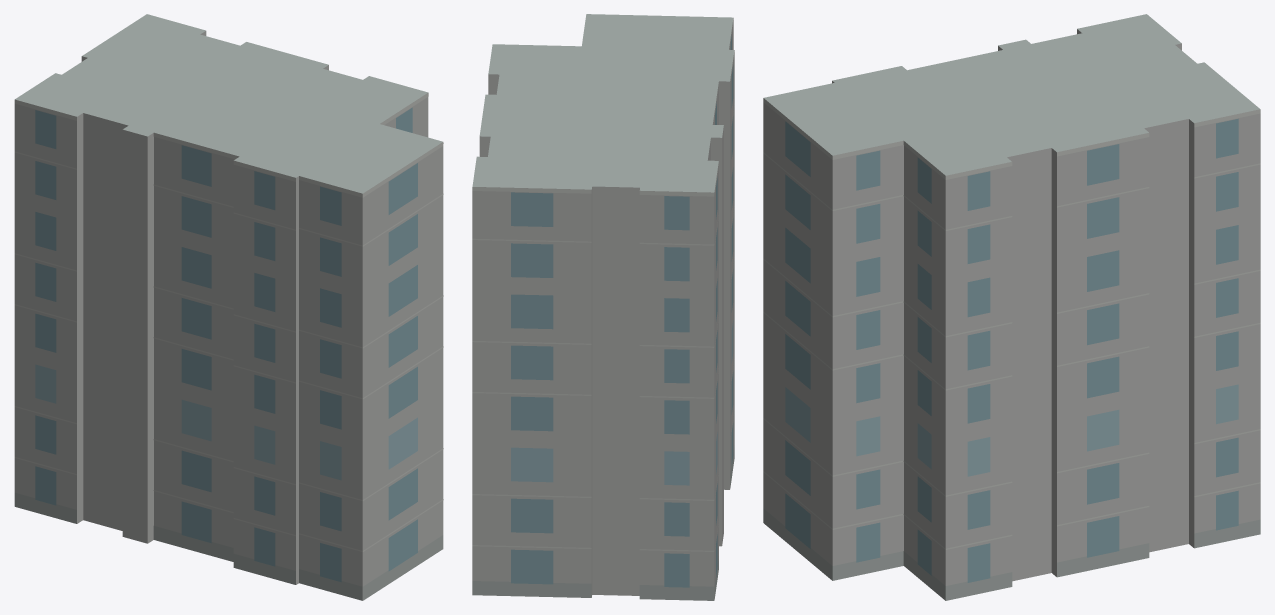
File: survey-upis-32742713.glb
3 renders of one model, left to right at view 1: azimuth 30°, elevation 25°; view 2: azimuth 150°, elevation 25°; view 3: azimuth 270°, elevation 25°, orthographic. The views are drawn at different scales.
Visible parts, largest first — view 1: survey-upis-32742713.tmp; view 2: survey-upis-32742713.tmp; view 3: survey-upis-32742713.tmp.
Part boxes in pixels (left/top/right/bottom): survey-upis-32742713.tmp: left=14, top=14, right=443, bottom=600; survey-upis-32742713.tmp: left=472, top=14, right=734, bottom=600; survey-upis-32742713.tmp: left=763, top=14, right=1260, bottom=600.
Bounding box in the file's own units: 19.77 × 24.2 × 25.67.
